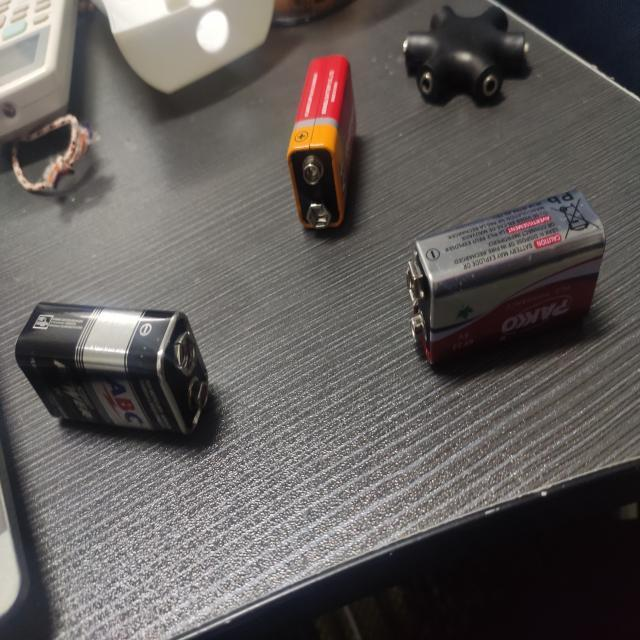9V: (388, 172, 624, 361), (14, 275, 223, 454), (266, 46, 379, 240)
